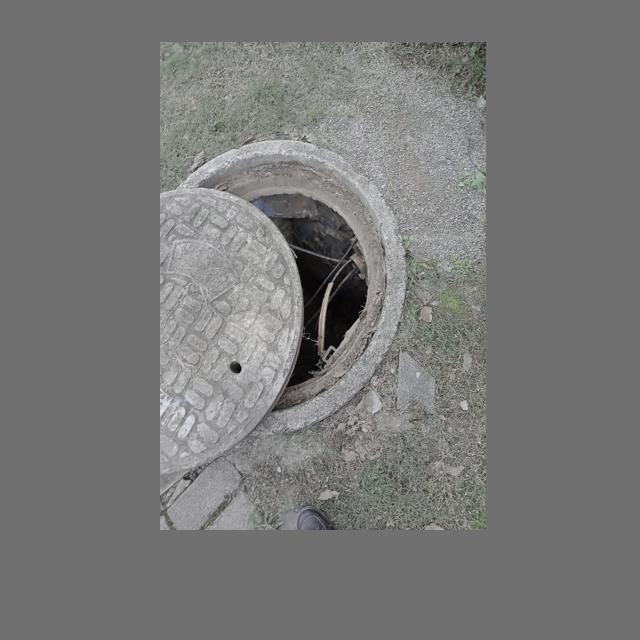uncovered: (160, 137, 410, 475)
